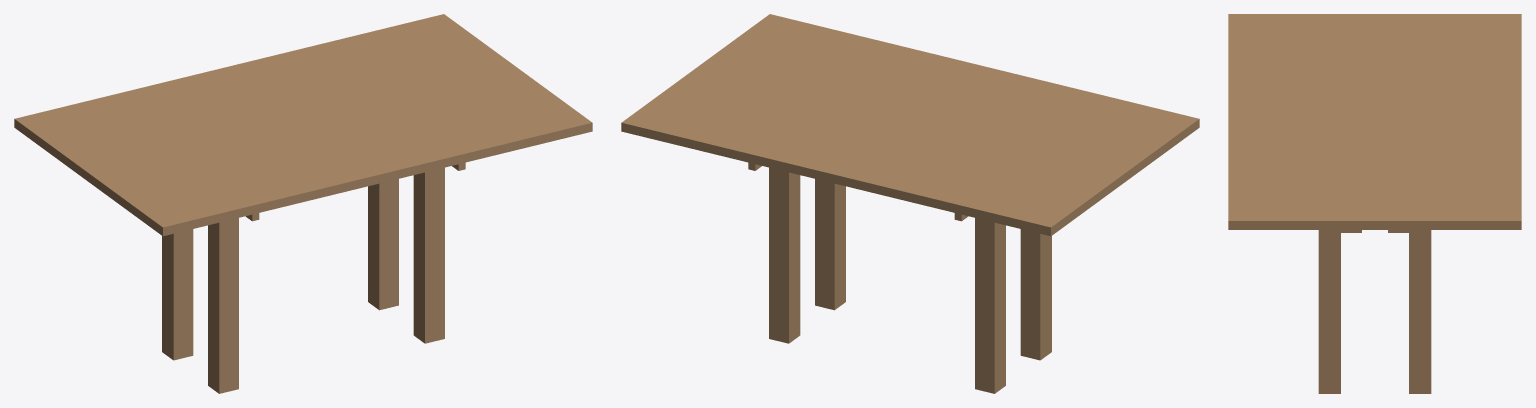
The model's file is Demo.glb.
3 renders of one model, left to right at view 1: azimuth 30°, elevation 25°; view 2: azimuth 150°, elevation 25°; view 3: azimuth 270°, elevation 25°, orthographic.
Visible parts, largest first — view 1: top, leg_2, leg_1, leg_3, leg_4; view 2: top, leg_4, leg_3, leg_1, leg_2; view 3: top, leg_2, leg_4.
Boxes of the visible parts, x1=… form: top: x1=14, y1=14, x2=592, y2=236; leg_2: x1=413, y1=167, x2=444, y2=343; leg_1: x1=208, y1=218, x2=238, y2=393; leg_3: x1=162, y1=229, x2=193, y2=360; leg_4: x1=368, y1=179, x2=398, y2=310; top: x1=621, y1=14, x2=1199, y2=236; leg_4: x1=769, y1=167, x2=800, y2=343; leg_3: x1=975, y1=218, x2=1005, y2=393; leg_1: x1=1020, y1=229, x2=1051, y2=360; leg_2: x1=815, y1=179, x2=845, y2=310; top: x1=1228, y1=14, x2=1521, y2=229; leg_2: x1=1318, y1=230, x2=1340, y2=393; leg_4: x1=1409, y1=230, x2=1431, y2=393.
Bounding box in the file's own units: 1.52 × 0.76 × 0.91.
